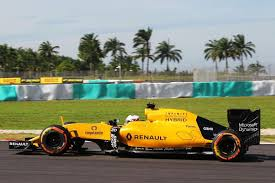FormulaOneCar: (7, 100, 265, 165)
